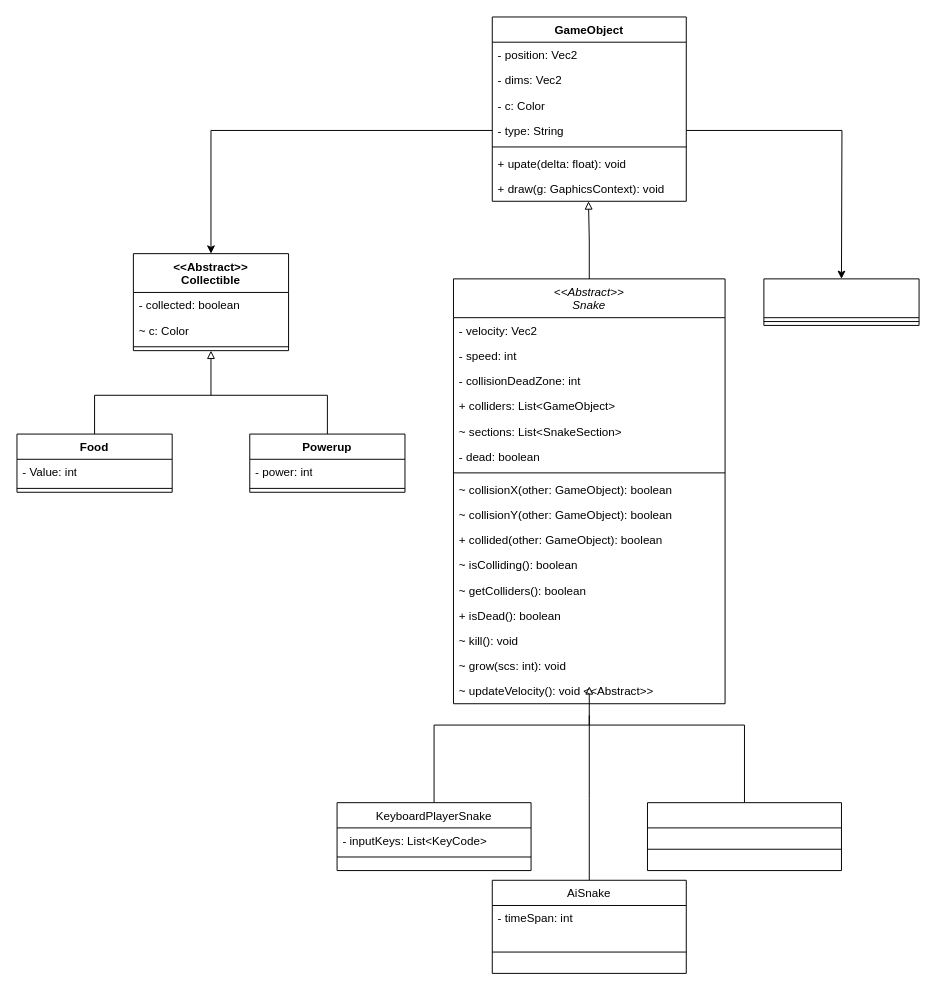
The diagram is 936 pixels wide and 990 high, and some of its shapes have lost their labels. Here are the shapes that lost their labels. From the top down, the centre of each, then its label:
At (841,301): "SnakeSection".
At (744,836): "MouseControlledSnake".
